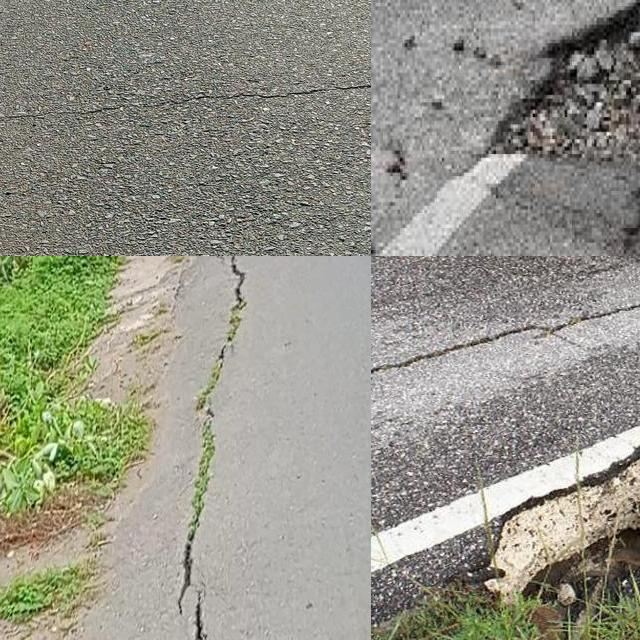Lubang: (495, 0, 640, 251)
Melintang: (0, 73, 371, 139)
Memanjang: (161, 256, 259, 640)
Pinggir: (465, 448, 640, 640)
